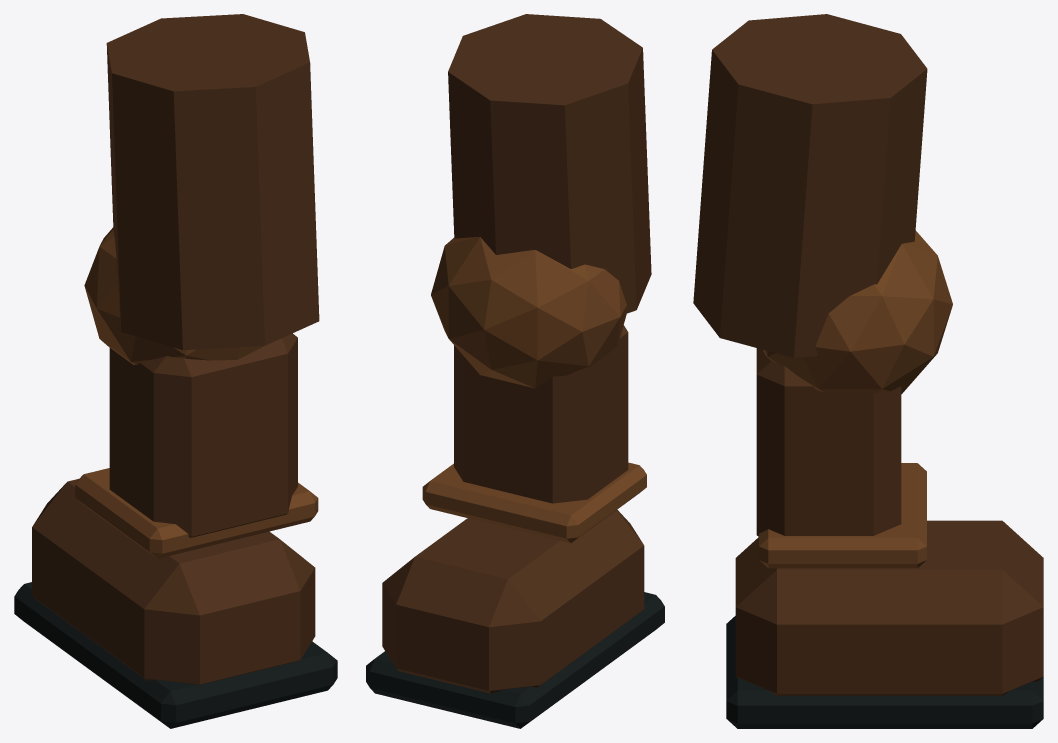
The model's file is LegRight.glb.
The picture shows the model from 3 angles, left to right: view 1: azimuth 30°, elevation 25°; view 2: azimuth 150°, elevation 25°; view 3: azimuth 270°, elevation 25°; orthographic projection. The views are drawn at different scales.
Parts seen in each view (by area): view 1: Sculpture; view 2: Sculpture; view 3: Sculpture.
Boxes of the visible parts, bbox=[...] form: Sculpture: bbox=[14, 14, 337, 728]; Sculpture: bbox=[366, 14, 664, 728]; Sculpture: bbox=[693, 14, 1043, 728].
Bounding box in the file's own units: 0.24 × 0.7542 × 0.3755.
